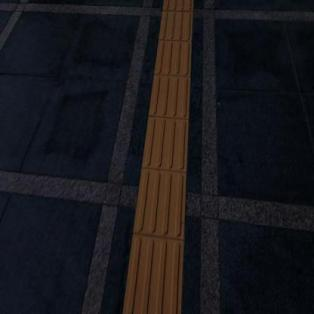Podoctatil: (123, 0, 196, 313)
